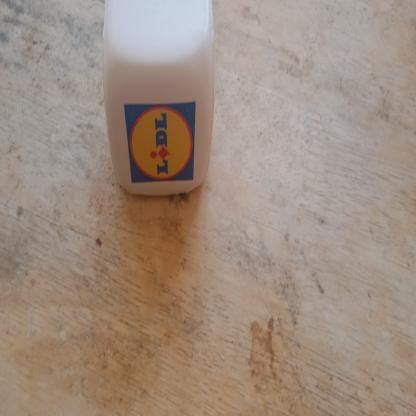Cube: (101, 0, 220, 200)
